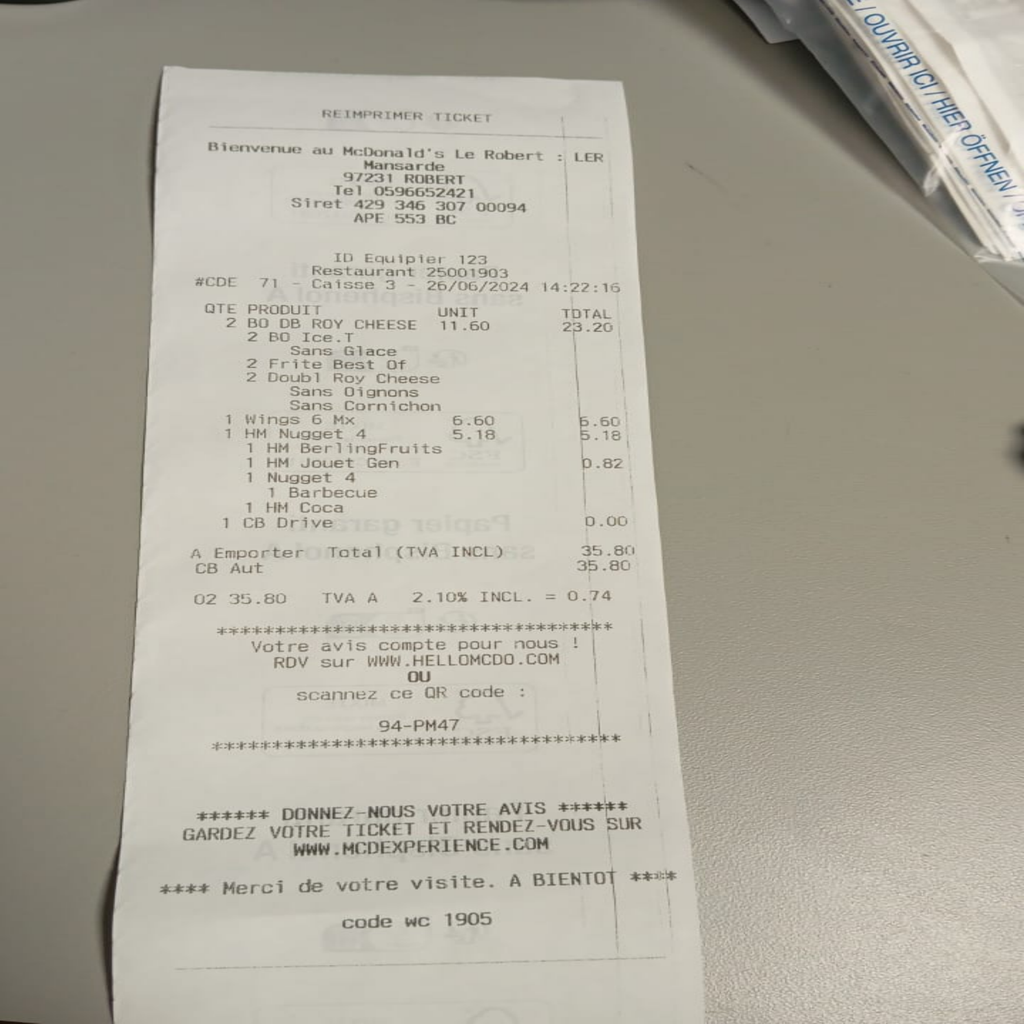recipt: (113, 65, 701, 1020)
